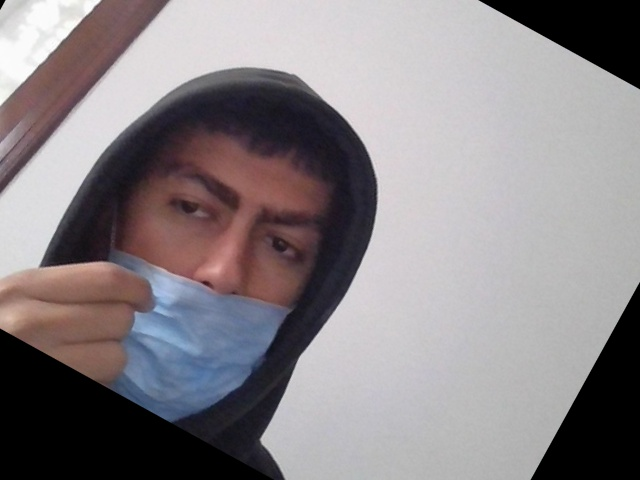mask_weared_incorrect: (98, 76, 337, 423)
